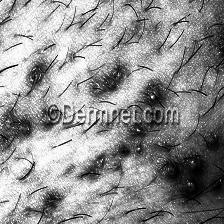Toxin: (160, 129, 224, 199), (86, 152, 122, 182), (142, 80, 160, 106)
